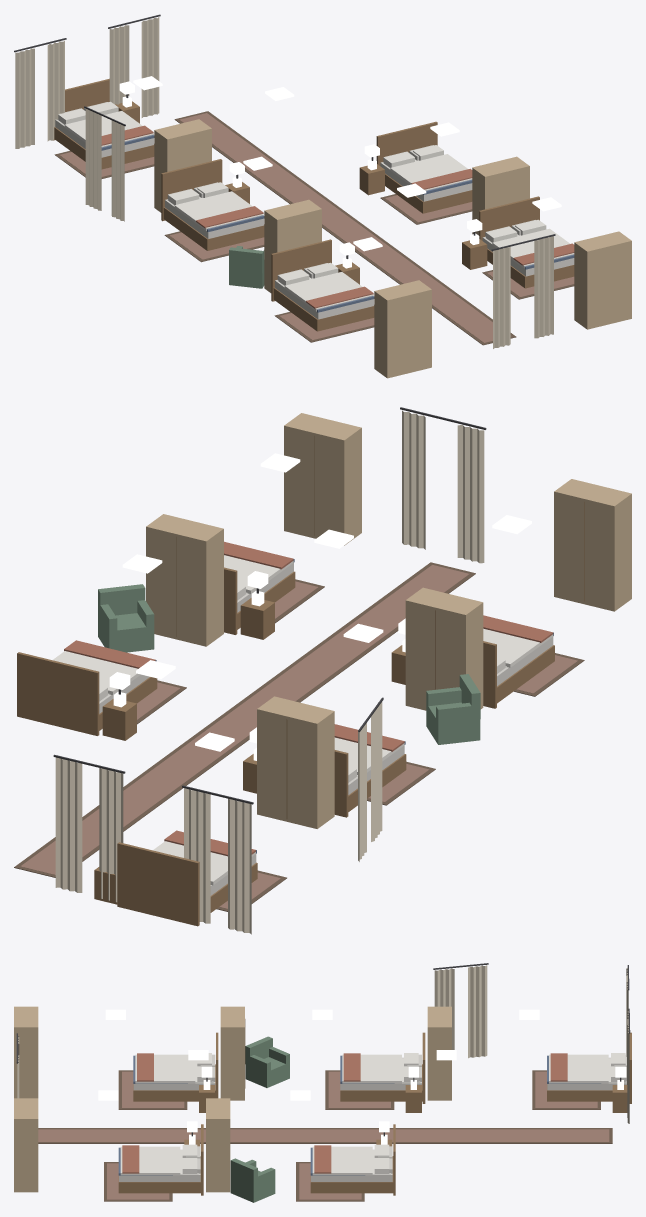
The model's file is fine-s2.glb.
3 views of the same model, one above another, from view 1: azimuth 30°, elevation 25°; view 2: azimuth 150°, elevation 25°; view 3: azimuth 270°, elevation 25° (orthographic). The views are drawn at different scales.
Parts seen in each view (by area): view 1: soft-s2, dresser.006, dresser.009, bed-frame.008, bed-frame.009, bed-frame.005, dresser.007, dresser.008, bed-frame.007, bed-frame.006, dresser.005, lounge-chair.003 (+2 smaller); view 2: soft-s2, dresser.009, dresser.007, dresser.005, dresser.006, dresser.008, bed-frame.005, bed-frame.007, lounge-chair.002, lounge-chair.003, bed-frame.009, bed-frame.008 (+3 smaller); view 3: soft-s2, dresser.008, dresser.005, dresser.006, dresser.009, dresser.007, bed-frame.006, bed-frame.005, lounge-chair.003, bed-frame.008, bed-frame.009, bed-frame.007 (+4 smaller).
Boxes of the visible parts, left/top/right/bottom form: soft-s2: left=14, top=14, right=574, bottom=348; dresser.006: left=574, top=231, right=631, bottom=329; dresser.009: left=374, top=280, right=431, bottom=378; bed-frame.008: left=161, top=159, right=264, bottom=250; bed-frame.009: left=271, top=239, right=374, bottom=331; bed-frame.005: left=376, top=121, right=472, bottom=213; dresser.007: left=154, top=119, right=211, bottom=212; dresser.008: left=264, top=199, right=321, bottom=292; bed-frame.007: left=53, top=78, right=154, bottom=169; bed-frame.006: left=479, top=196, right=574, bottom=288; dresser.005: left=472, top=156, right=529, bottom=235; lounge-chair.003: left=229, top=246, right=264, bottom=288; soft-s2: left=14, top=407, right=584, bottom=934; dresser.009: left=554, top=479, right=631, bottom=611; dresser.007: left=257, top=696, right=334, bottom=828; dresser.005: left=146, top=514, right=223, bottom=646; dresser.006: left=284, top=413, right=361, bottom=545; dresser.008: left=405, top=587, right=483, bottom=710; bed-frame.005: left=17, top=652, right=157, bottom=735; bed-frame.007: left=117, top=842, right=257, bottom=926; lounge-chair.002: left=98, top=584, right=154, bottom=652; lounge-chair.003: left=426, top=674, right=480, bottom=744; bed-frame.009: left=483, top=632, right=554, bottom=708; bed-frame.008: left=334, top=741, right=406, bottom=817; soft-s2: left=16, top=963, right=630, bottom=1201; dresser.008: left=220, top=1006, right=245, bottom=1100; dresser.005: left=206, top=1098, right=230, bottom=1192; dresser.006: left=14, top=1098, right=38, bottom=1192; dresser.009: left=14, top=1006, right=38, bottom=1098; dresser.007: left=427, top=1006, right=451, bottom=1100; bed-frame.006: left=118, top=1124, right=203, bottom=1195; bed-frame.005: left=310, top=1124, right=395, bottom=1195; lounge-chair.003: left=245, top=1036, right=289, bottom=1087; bed-frame.008: left=340, top=1032, right=425, bottom=1103; bed-frame.009: left=133, top=1032, right=218, bottom=1101; bed-frame.007: left=547, top=1032, right=631, bottom=1103.
Size of the model in its own units: 8.55 by 2.61 by 15.28.
